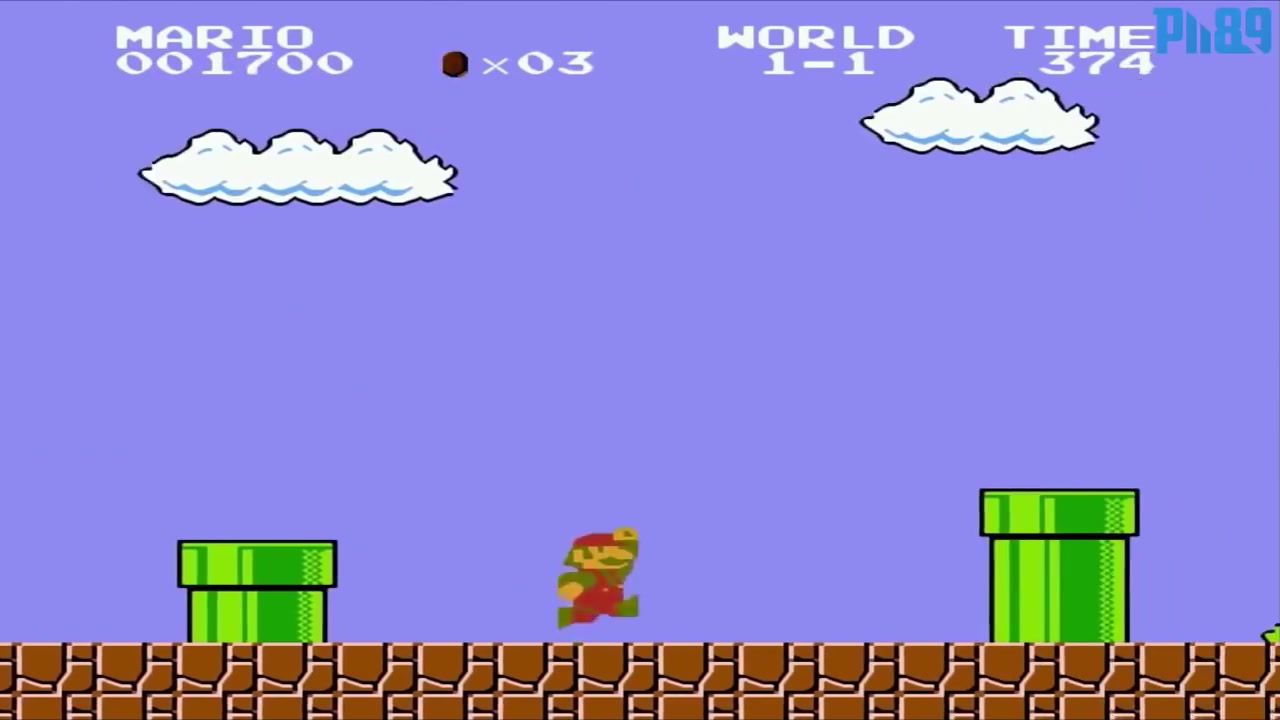mario: (543, 522, 659, 633)
